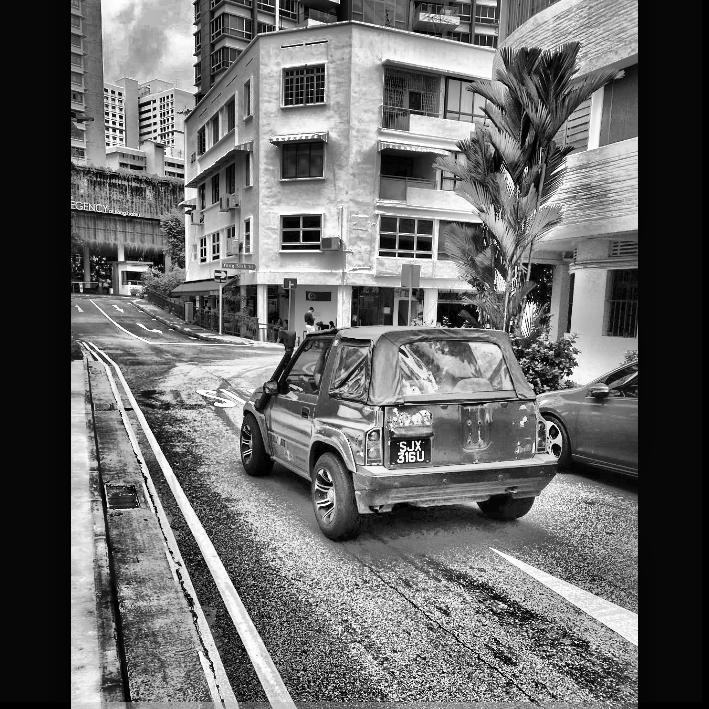License-Plates: (390, 439, 430, 464)
